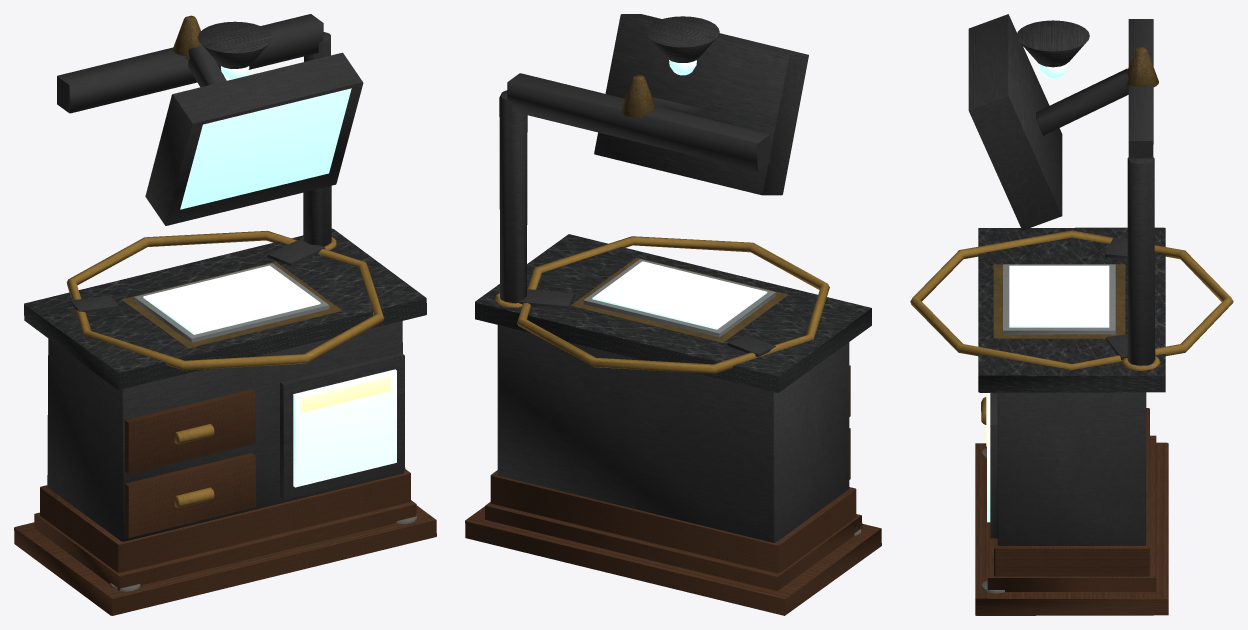
Rendered from hp_room_l09_p09.glb.
3 views of the same model, side by side, from view 1: azimuth 30°, elevation 25°; view 2: azimuth 150°, elevation 25°; view 3: azimuth 270°, elevation 25° (orthographic).
Parts seen in each view (by area): view 1: room_l09_p09; view 2: room_l09_p09; view 3: room_l09_p09.
Part boxes in pixels (x1,y1,x2,y2): room_l09_p09: (14,14,436,615); room_l09_p09: (465,14,881,615); room_l09_p09: (910,14,1233,615).
Bounding box in the file's own units: 1.18 × 1.76 × 1.03.
12 materials, 10 textured.
